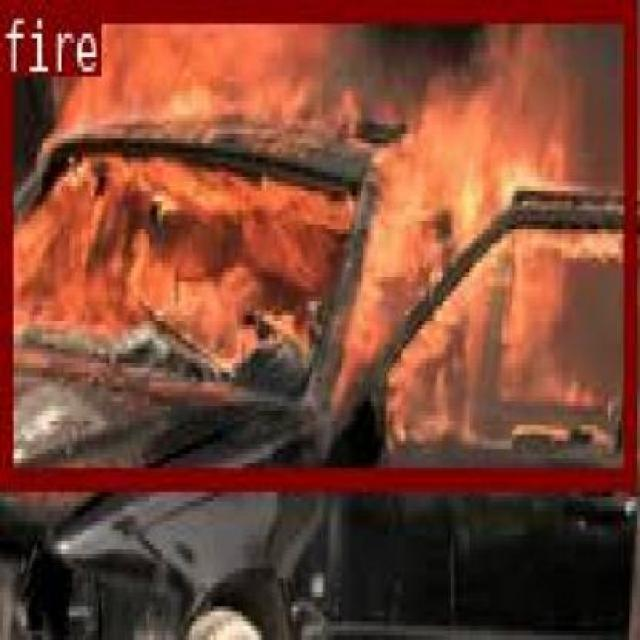Fire: (0, 0, 635, 487)
